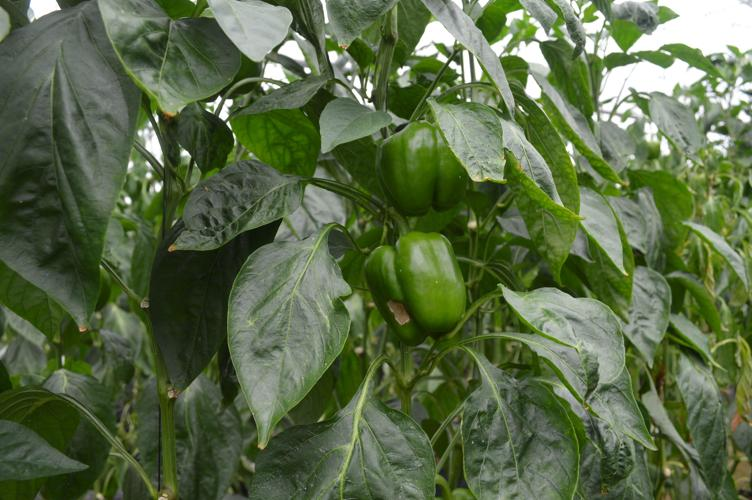BellPepper: (362, 230, 471, 341), (376, 117, 469, 210)
